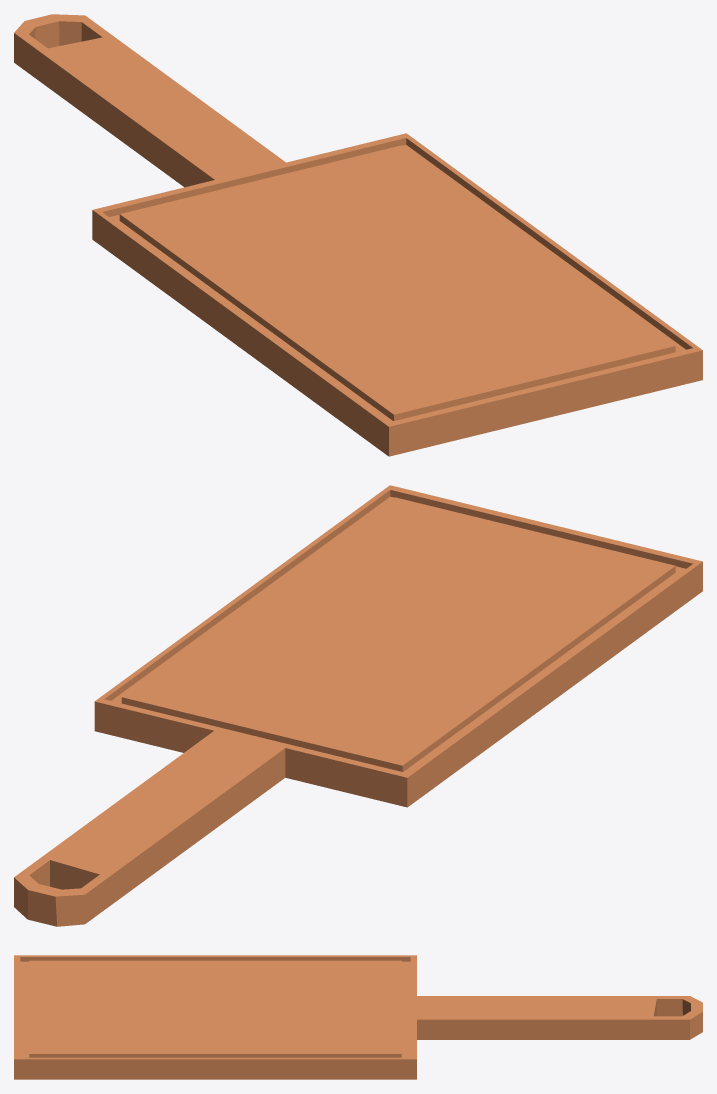
File: Board1.fbx
3 renders of one model, top to bottom at view 1: azimuth 30°, elevation 25°; view 2: azimuth 150°, elevation 25°; view 3: azimuth 270°, elevation 25°, orthographic. The views are drawn at different scales.
Parts seen in each view (by area): view 1: Cube; view 2: Cube; view 3: Cube.
Boxes of the visible parts, x1,y1,x2,y2 form: Cube: (14, 14, 702, 456); Cube: (14, 485, 702, 926); Cube: (14, 955, 702, 1079).
Size of the model in its own units: 67.19 by 6.1 by 188.
